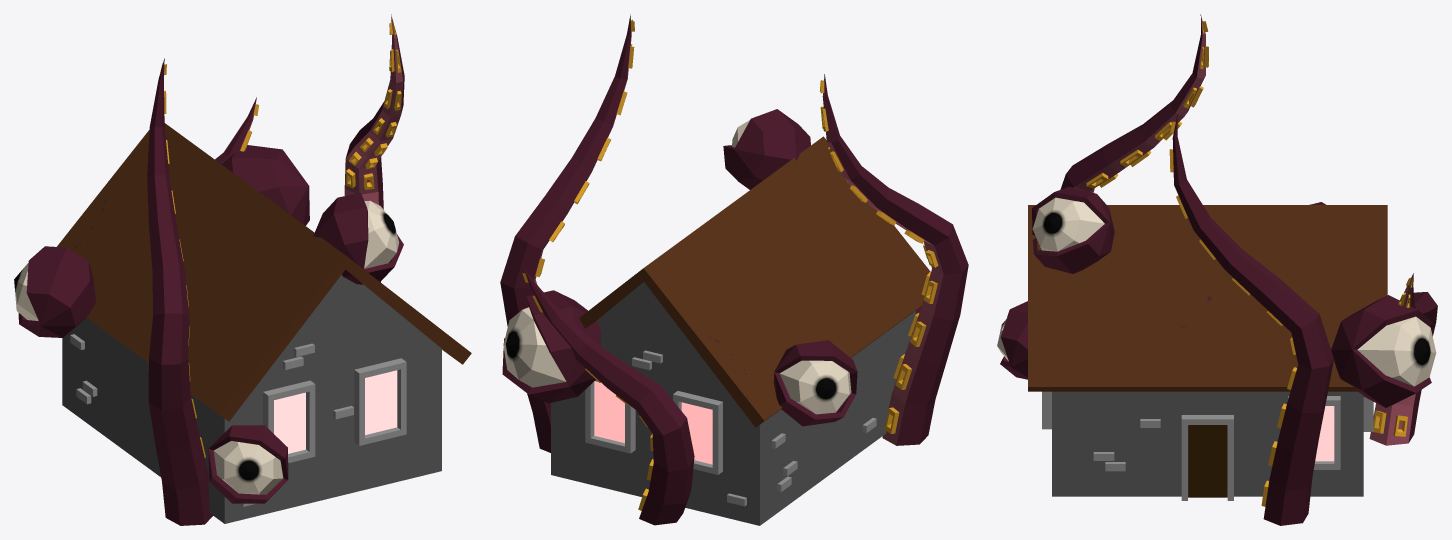
The model's file is Build_2_Tentacles.fbx.
3 views of the same model, side by side, from view 1: azimuth 30°, elevation 25°; view 2: azimuth 150°, elevation 25°; view 3: azimuth 270°, elevation 25° (orthographic). The views are drawn at different scales.
Visible parts, largest first — view 1: No_Madness.009; view 2: No_Madness.009; view 3: No_Madness.009.
Part boxes in pixels (x1,y1,x2,y2): No_Madness.009: (14, 14, 471, 525); No_Madness.009: (500, 14, 968, 525); No_Madness.009: (997, 14, 1437, 525).
Size of the model in its own units: 4.37 by 4.74 by 4.79.
